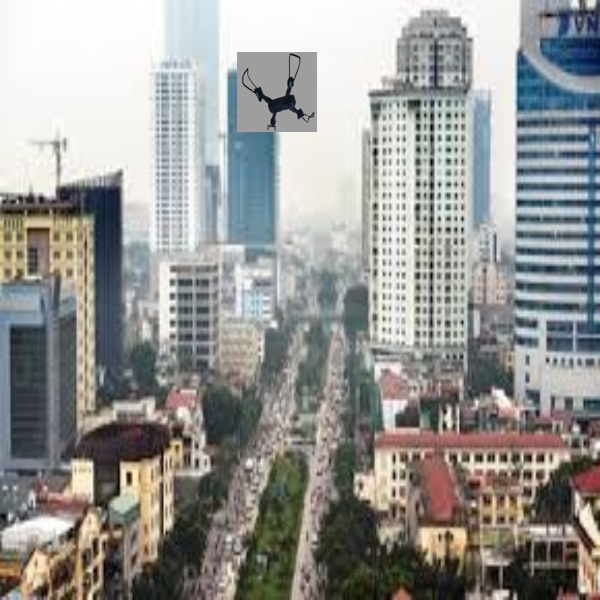drone: (233, 52, 318, 132)
